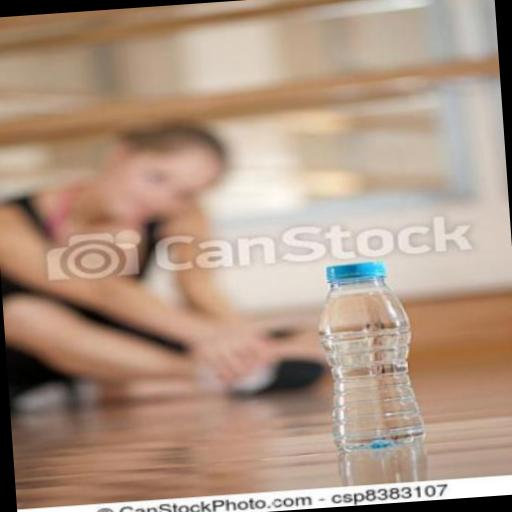Coca: (302, 251, 440, 462)
